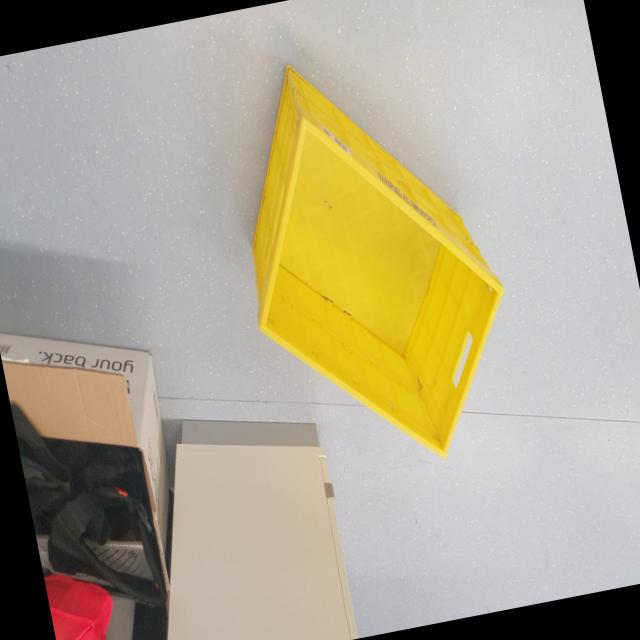box: (203, 27, 548, 500)
